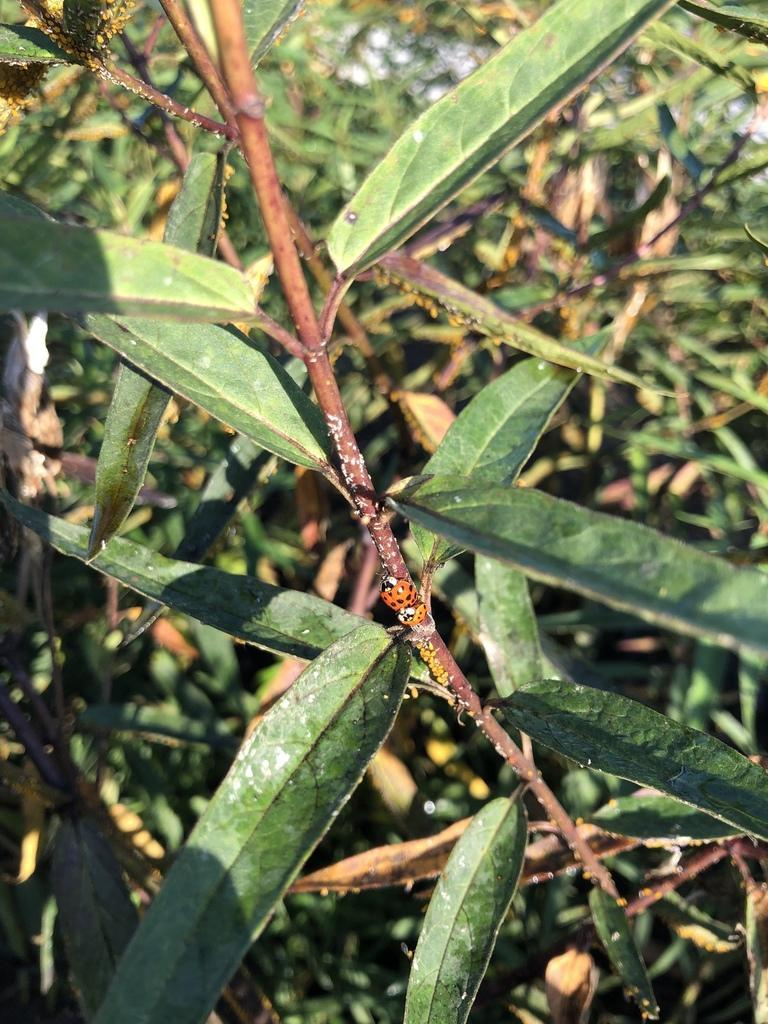ladybug: (376, 571, 422, 614), (396, 601, 431, 629)
